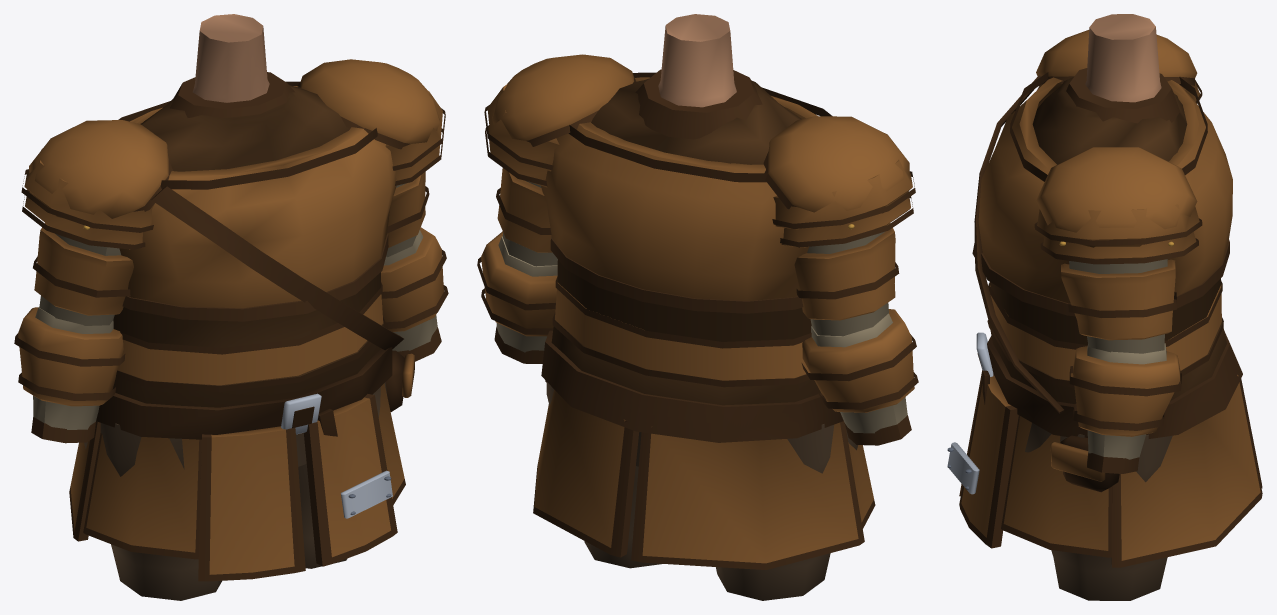
The model's file is a_leather_d.glb.
The picture shows the model from 3 angles, left to right: view 1: azimuth 30°, elevation 25°; view 2: azimuth 150°, elevation 25°; view 3: azimuth 270°, elevation 25°; orthographic projection. The views are drawn at different scales.
Parts seen in each view (by area): view 1: Breast, Lames, ArmR_Pauldron, TassetR0, ArmL_Pauldron, TassetR1, TassetL0, Torso, Belt, Neck, ArmR_Vambrace, Baldric (+11 smaller); view 2: BackPlate, TassetR2, Lames, ArmR_Pauldron, ArmL_Pauldron, TassetL2, Belt, Neck, ArmR_Vambrace, Torso, ArmL_Vambrace, LegR_Thigh (+7 smaller); view 3: ArmL_Pauldron, TassetL2, Breast, Lames, TassetL1, Neck, BackPlate, ArmL_Vambrace, Belt, Torso, TassetL0, LegL_Thigh (+8 smaller).
Boxes of the visible parts, x1,y1,x2,y2 form: Breast: [119, 127, 396, 321]; Lames: [112, 272, 385, 407]; ArmR_Pauldron: [21, 120, 173, 315]; TassetR0: [198, 426, 305, 581]; ArmL_Pauldron: [297, 59, 445, 247]; TassetR1: [83, 433, 201, 559]; TassetL0: [303, 394, 397, 566]; Torso: [141, 85, 349, 171]; Belt: [96, 347, 392, 439]; Neck: [170, 14, 294, 118]; ArmR_Vambrace: [14, 307, 125, 406]; Baldric: [151, 186, 403, 350]; BackPlate: [541, 122, 808, 313]; TassetR2: [631, 421, 864, 569]; Lames: [551, 260, 820, 405]; ArmR_Pauldron: [763, 116, 915, 320]; ArmL_Pauldron: [484, 54, 635, 252]; TassetL2: [533, 390, 639, 557]; Belt: [541, 330, 843, 442]; Neck: [635, 14, 762, 139]; ArmR_Vambrace: [801, 309, 918, 412]; Torso: [591, 78, 801, 164]; ArmL_Vambrace: [477, 231, 557, 336]; LegR_Thigh: [716, 424, 857, 600]; ArmL_Pauldron: [1034, 147, 1202, 340]; TassetL2: [1111, 374, 1262, 567]; Breast: [972, 77, 1075, 316]; Lames: [987, 278, 1226, 403]; TassetL1: [1001, 415, 1111, 557]; Neck: [1066, 14, 1179, 123]; BackPlate: [1167, 80, 1232, 308]; ArmL_Vambrace: [1069, 346, 1181, 436]; Belt: [976, 331, 1242, 438]; Torso: [1032, 77, 1187, 164]; TassetL0: [959, 374, 1018, 548]; LegL_Thigh: [1025, 423, 1172, 600].
Bounding box in the file's own units: 0.6769 × 0.8322 × 0.4547.
